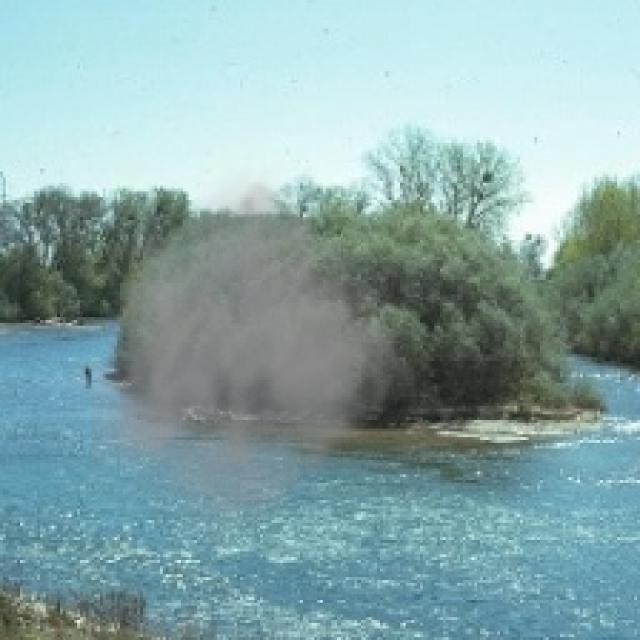Smoke: (92, 162, 434, 548)
